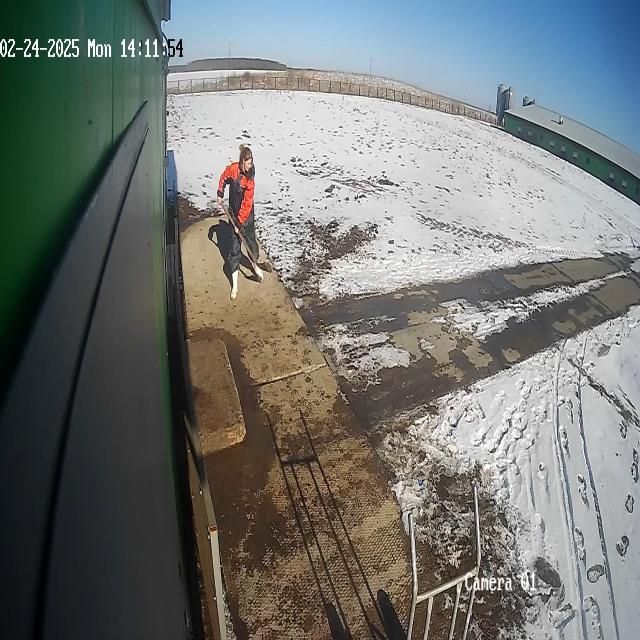Red uniform: (214, 144, 264, 303)
